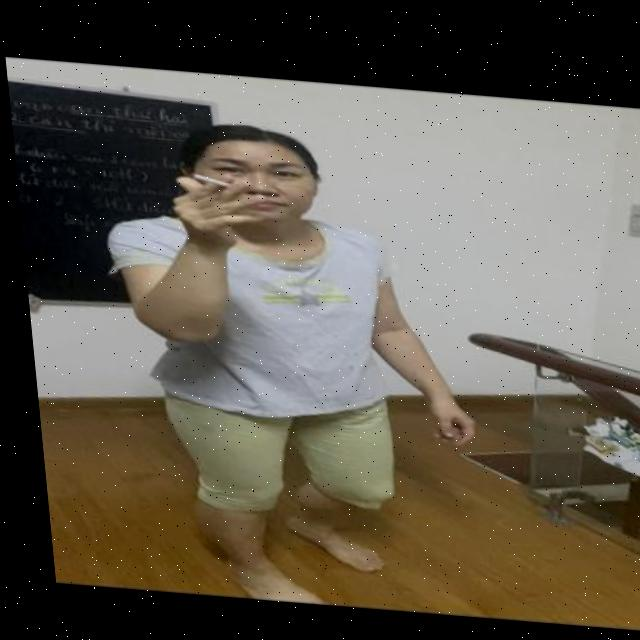cigarette: (189, 170, 230, 185)
